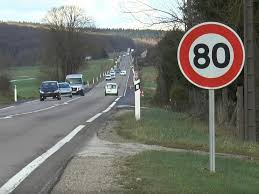Speed_limit_80km: (175, 21, 245, 89)
